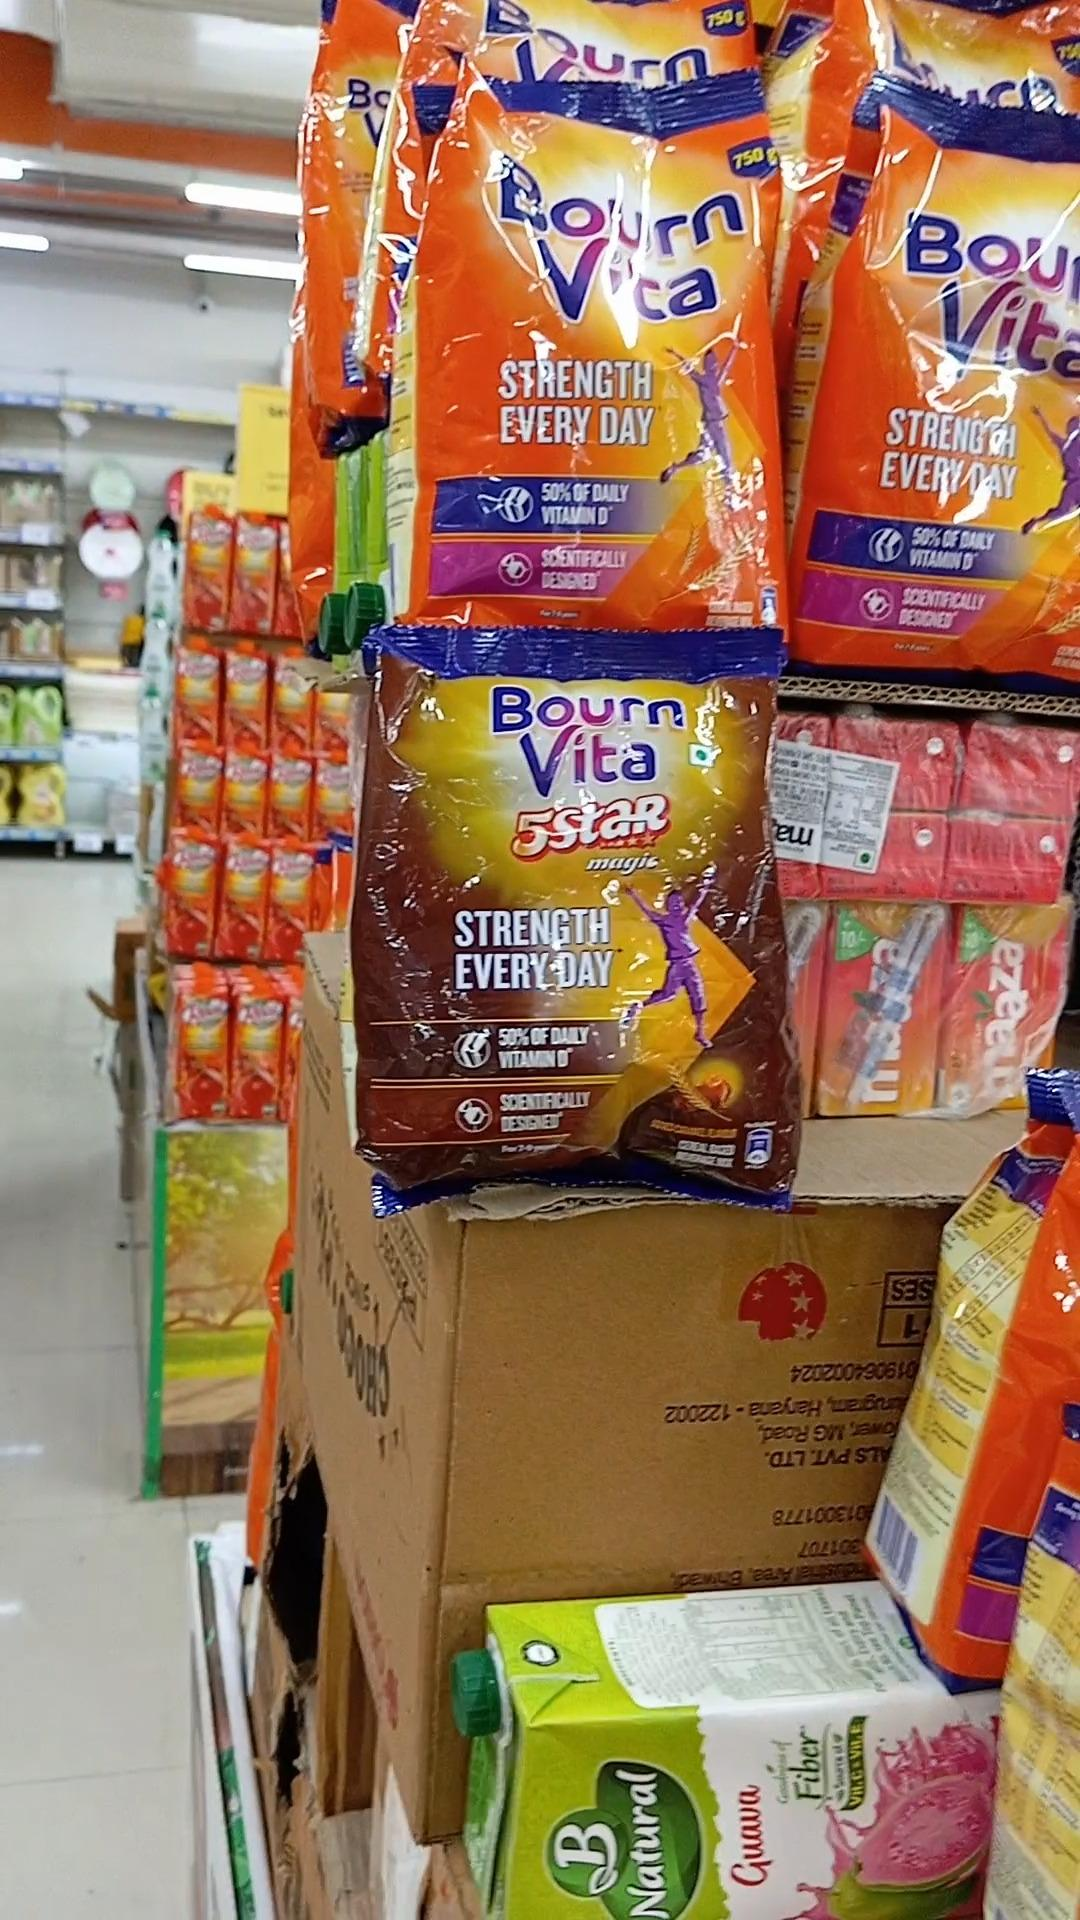BOURN_VITA_FIVE_STAR_MAGIC_500_G_POUCH: (368, 630, 798, 1196)
